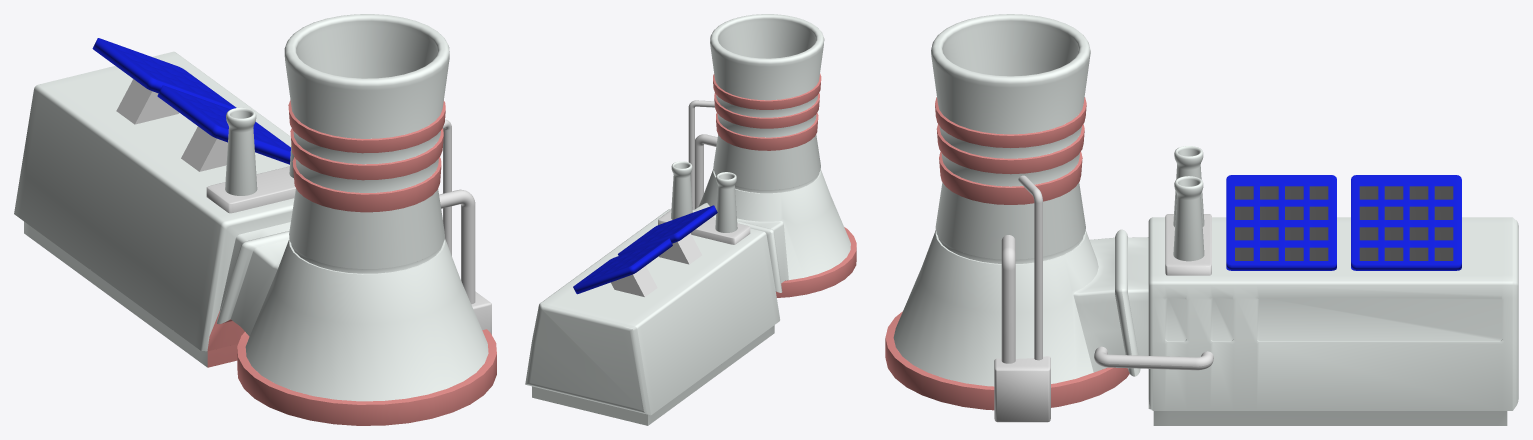
Rendered from zonnepanel.fbx.
3 views of the same model, side by side, from view 1: azimuth 30°, elevation 25°; view 2: azimuth 150°, elevation 25°; view 3: azimuth 270°, elevation 25° (orthographic). The views are drawn at different scales.
Visible parts, largest first — view 1: Cylinder, Cube.004, Cube.003, Cylinder.001, Cube.002, Cylinder.005, Cube.005, Cube.006, Cylinder.006, Cube.007; view 2: Cylinder, Cube.004, Cube.003, Cylinder.001, Cylinder.002, Cube.002, Cube.005, Cylinder.005, Cube.006, Cylinder.006; view 3: Cylinder, Cube.004, Cube.003, Cube.007, Cylinder.002, Cylinder.005, Cylinder.006, Cylinder.007, Cube.002, Cylinder.001.
Boxes of the visible parts, left/top/right/bottom form: Cylinder: left=14, top=14, right=496, bottom=425; Cube.004: left=92, top=38, right=236, bottom=109; Cube.003: left=157, top=85, right=290, bottom=164; Cylinder.001: left=225, top=107, right=257, bottom=195; Cube.002: left=206, top=166, right=295, bottom=213; Cylinder.005: left=439, top=189, right=475, bottom=304; Cube.005: left=116, top=79, right=179, bottom=124; Cube.006: left=181, top=126, right=227, bottom=171; Cylinder.006: left=443, top=119, right=451, bottom=255; Cube.007: left=471, top=291, right=491, bottom=334; Cylinder: left=525, top=14, right=856, bottom=425; Cube.004: left=573, top=238, right=672, bottom=294; Cube.003: left=618, top=205, right=717, bottom=255; Cylinder.001: left=715, top=172, right=737, bottom=232; Cylinder.002: left=671, top=161, right=692, bottom=219; Cube.002: left=658, top=210, right=750, bottom=244; Cube.005: left=611, top=266, right=657, bottom=296; Cylinder.005: left=695, top=134, right=717, bottom=208; Cube.006: left=659, top=233, right=701, bottom=264; Cylinder.006: left=688, top=100, right=714, bottom=209; Cylinder: left=885, top=14, right=1518, bottom=425; Cube.004: left=1351, top=175, right=1461, bottom=270; Cube.003: left=1226, top=175, right=1336, bottom=270; Cube.007: left=994, top=356, right=1050, bottom=422; Cylinder.002: left=1173, top=176, right=1204, bottom=261; Cylinder.005: left=1001, top=235, right=1015, bottom=363; Cylinder.006: left=1018, top=175, right=1042, bottom=360; Cylinder.007: left=1094, top=346, right=1213, bottom=370; Cube.002: left=1165, top=214, right=1211, bottom=275; Cylinder.001: left=1173, top=146, right=1204, bottom=226.
Bounding box in the file's own units: 145 × 213 × 359.
